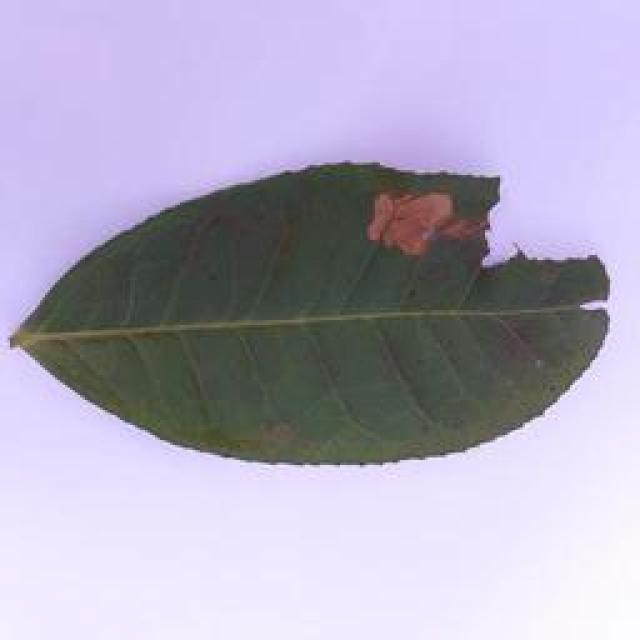Gray Blight: (0, 154, 622, 476)
